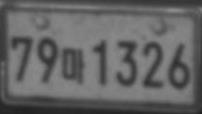1: (90, 39, 112, 85)
2: (142, 41, 164, 88)
3: (115, 40, 137, 86)
6: (168, 42, 191, 89)
7: (10, 36, 32, 82)
9: (36, 37, 57, 83)
마: (61, 48, 85, 84)
